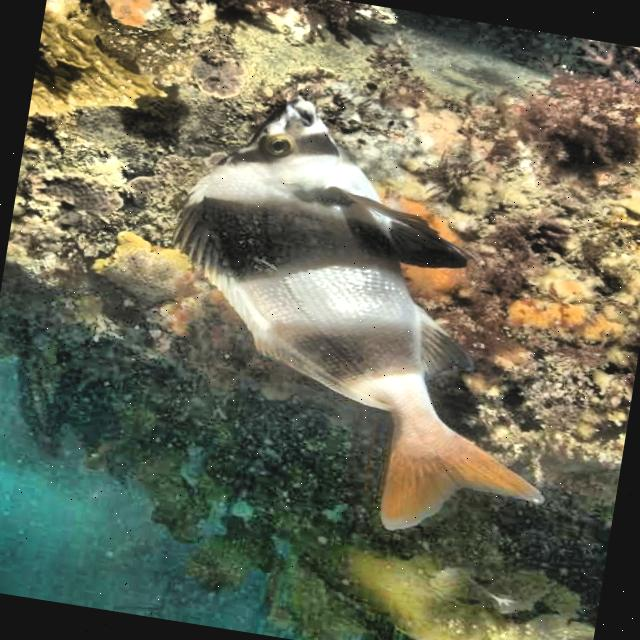fish: (132, 80, 604, 554)
